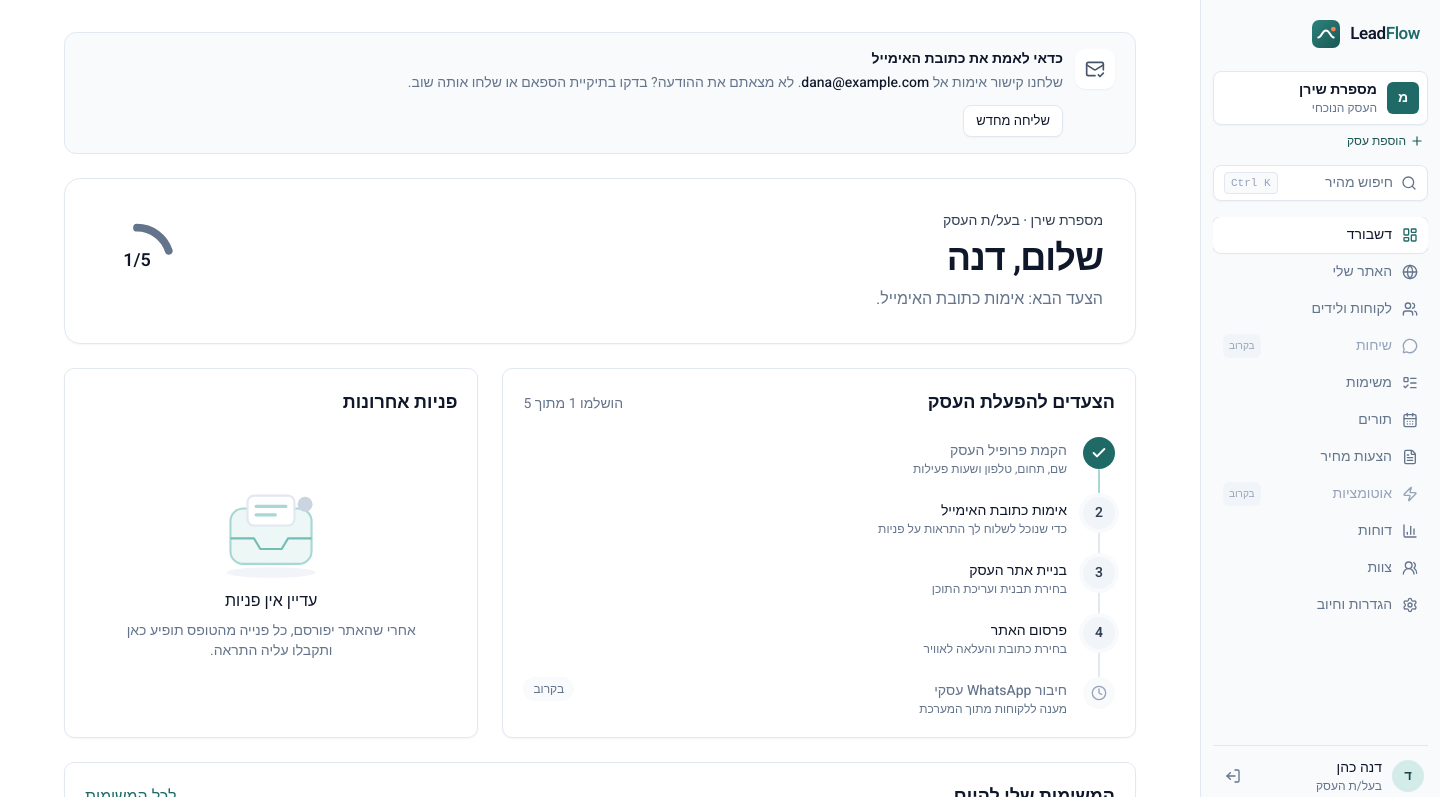
Scenario: account page › is reachable from the name in the sidebar
Click the link with aria-label "החשבון שלי: דנה כהן": point(1359, 768) [1337, 757, 1382, 778]
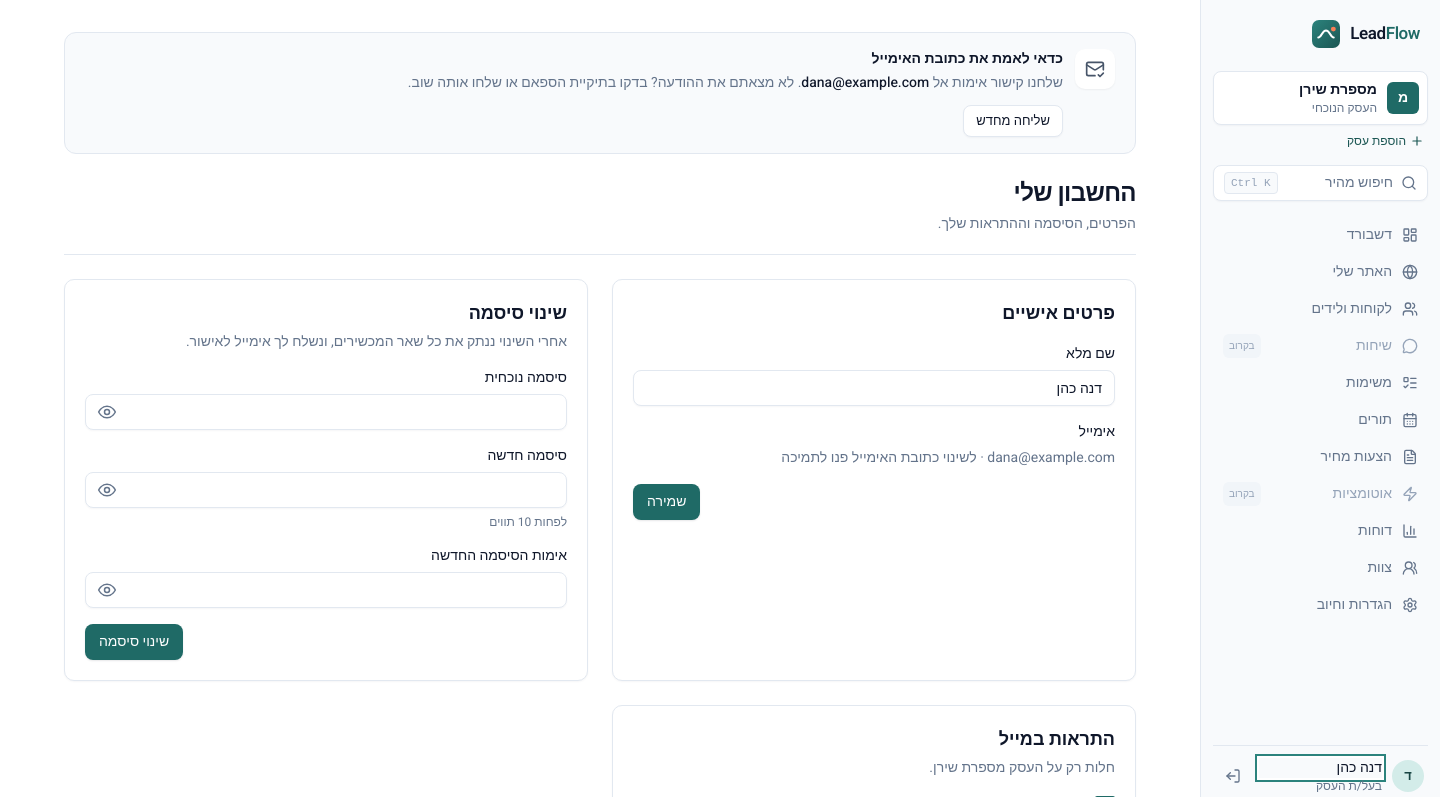
Check: the heading "החשבון שלי" is shown, box [1014, 176, 1136, 211]
